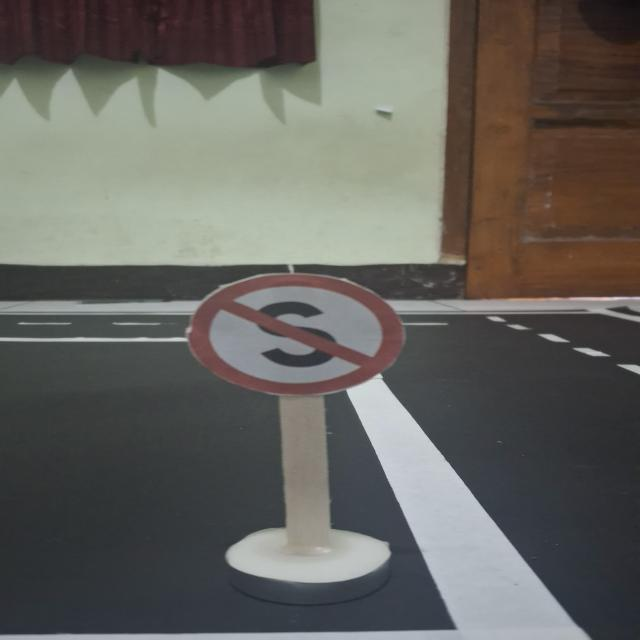Rambu Berhenti: (186, 274, 402, 394)
